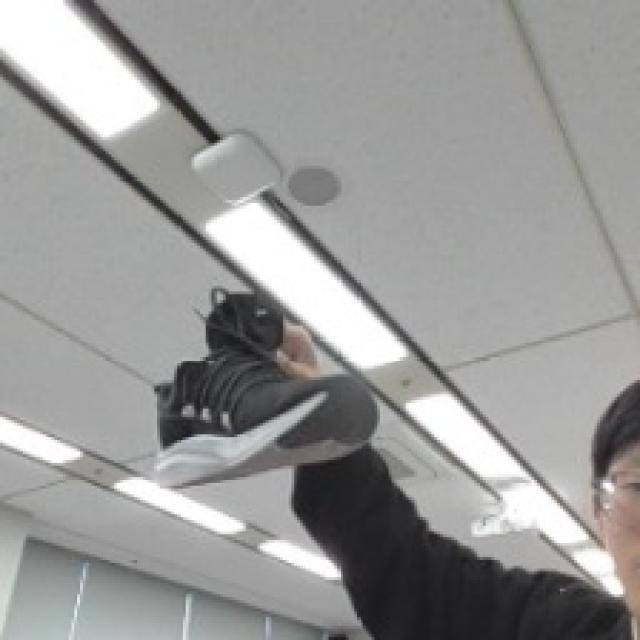shoe: (117, 275, 406, 492)
